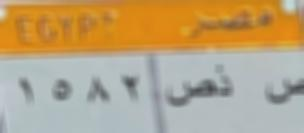1: (14, 72, 39, 113)
2: (120, 71, 143, 106)
5: (48, 75, 75, 108)
8: (82, 75, 112, 109)
saad: (164, 75, 214, 110), (261, 74, 304, 109)
zaal: (214, 63, 238, 100)
